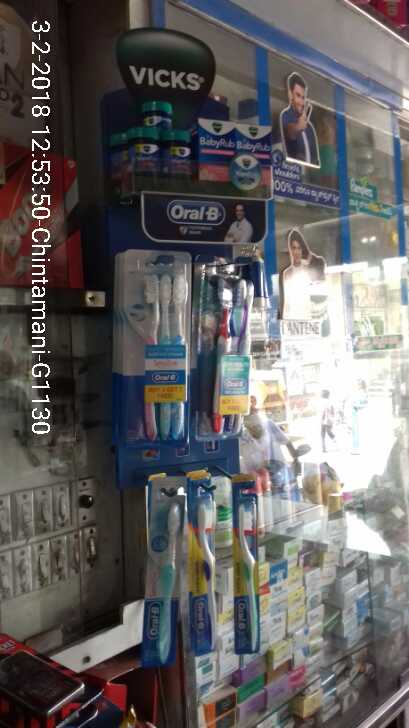pharmacy: (121, 244, 193, 461), (194, 256, 258, 437), (102, 86, 190, 181), (143, 476, 185, 670), (185, 474, 222, 661), (229, 476, 265, 656)
